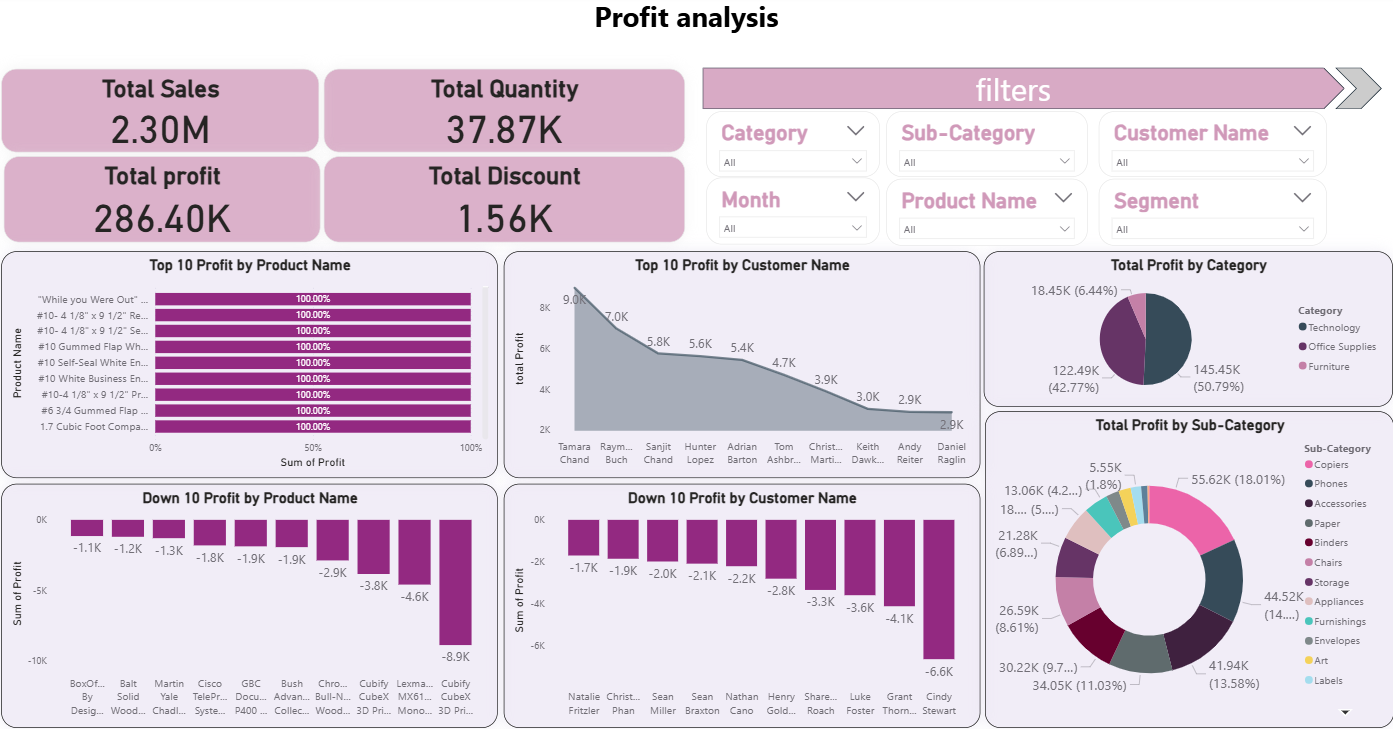

What the dashboard file says about the page in this screenshot:
{"tool":"powerbi","page":{"name":"Profit Overview","canvas":[1800,950],"ordinal":3},"visuals":[{"type":"card","title":"Total Quantity","fields":{"Values":["Orders.total Discount"]},"box":[418.5,94.6,466,107.9],"z":0},{"type":"card","title":"Total Sales","fields":{"Values":["Orders.total sales"]},"box":[2.4,94.6,410.4,107.9],"z":1000},{"type":"card","title":"Total profit","fields":{"Values":["Orders.total Profit"]},"box":[4,207.5,408.8,111.2],"z":2000},{"type":"card","title":"Total Discount","fields":{"Values":["Orders.total Discount"]},"box":[418.5,207.5,466,111.2],"z":3000},{"type":"hundredPercentStackedBarChart","title":"Top 10 Profit by Product Name","fields":{"Category":["Orders.Product Name"],"Y":["Sum(Orders$FilterDatabase.Profit)"]},"box":[1.6,330.3,641,292.7],"z":4000},{"type":"clusteredColumnChart","title":"Down 10 Profit by Product Name","fields":{"Category":["Orders.Product Name"],"Y":["Sum(Orders.Profit)"]},"box":[1.6,631.2,641,315.6],"z":5000},{"type":"areaChart","title":"Top 10 Profit by Customer Name","fields":{"Category":["Orders.Customer Name"],"Y":["Orders.total Profit"]},"box":[650.8,330.3,614.8,292.7],"z":6000},{"type":"clusteredColumnChart","title":"Down 10 Profit  by Customer Name","fields":{"Category":["Orders.Customer Name"],"Y":["Sum(Orders.Profit)"]},"box":[650.8,631.2,614.8,315.6],"z":7000},{"type":"pieChart","title":"Total Profit by Category","fields":{"Category":["Orders.Category"],"Y":["Sum(Orders.Profit)"]},"box":[1270.5,330.3,528.2,201.1],"z":8000},{"type":"donutChart","title":"Total Profit  by Sub-Category","fields":{"Category":["Orders.Sub-Category"],"Y":["Sum(Orders.Profit)"]},"box":[1272.2,538,528.2,408.8],"z":9000},{"type":"shape","box":[907.4,92.9,829,54],"z":10000},{"type":"shape","box":[1723,92.9,60.5,54],"z":11000},{"type":"slicer","fields":{"Values":["Orders.Category"]},"box":[911,150.2,224,85],"z":12000},{"type":"slicer","fields":{"Values":["Orders.Sub-Category"]},"box":[1143.8,150.1,260,85],"z":13000},{"type":"slicer","fields":{"Values":["Orders.Customer Name"]},"box":[1418.6,150.1,294.3,85],"z":14000},{"type":"slicer","fields":{"Values":["Orders$FilterDatabase.Product Name"]},"box":[1143.2,236.9,260,86.7],"z":15000},{"type":"slicer","fields":{"Values":["Orders.Order Date.Variation.Date Hierarchy.Month"]},"box":[911,235.2,224,86.7],"z":16000},{"type":"slicer","fields":{"Values":["Orders.Segment"]},"box":[1417.9,236.9,294.3,86.7],"z":17000},{"type":"shape","box":[443.1,0,884.6,50.7],"z":18000}]}

Visuals, with their boxes in screenshot pixels (x1, y1, x2, y2), scaled from the page's 1800x950 canvas onto the 1393x729 screenshot:
"Total Quantity" card: (324, 73, 685, 155)
"Total Sales" card: (2, 73, 319, 155)
"Total profit" card: (3, 159, 319, 245)
"Total Discount" card: (324, 159, 685, 245)
"Top 10 Profit by Product Name" hundredPercentStackedBarChart: (1, 253, 497, 478)
"Down 10 Profit by Product Name" clusteredColumnChart: (1, 484, 497, 727)
"Top 10 Profit by Customer Name" areaChart: (504, 253, 979, 478)
"Down 10 Profit  by Customer Name" clusteredColumnChart: (504, 484, 979, 727)
"Total Profit by Category" pieChart: (983, 253, 1392, 408)
"Total Profit  by Sub-Category" donutChart: (985, 413, 1392, 727)
shape: (702, 71, 1344, 113)
shape: (1333, 71, 1380, 113)
slicer - Orders.Category: (705, 115, 878, 180)
slicer - Orders.Sub-Category: (885, 115, 1086, 180)
slicer - Orders.Customer Name: (1098, 115, 1326, 180)
slicer - Orders$FilterDatabase.Product Name: (885, 182, 1086, 248)
slicer - Orders.Order Date.Variation.Date Hierarchy.Month: (705, 180, 878, 247)
slicer - Orders.Segment: (1097, 182, 1325, 248)
shape: (343, 0, 1027, 39)
